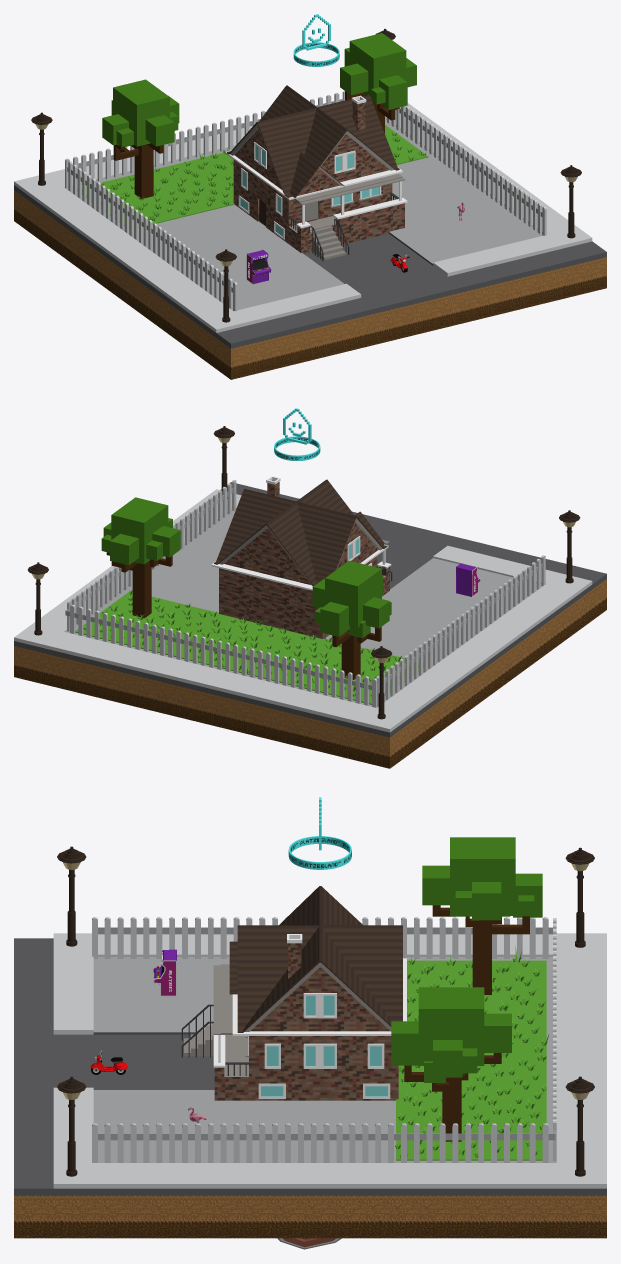
3 renders of one model, top to bottom at view 1: azimuth 30°, elevation 25°; view 2: azimuth 150°, elevation 25°; view 3: azimuth 270°, elevation 25°, orthographic. The views are drawn at different scales.
Parts seen in each view (by area): view 1: Cube.004, Cube.117, TYPE_PREMIUM, OBJRANDOM_ARCADE; view 2: Cube.004, Cube.117, TYPE_PREMIUM, OBJRANDOM_ARCADE; view 3: Cube.004, Cube.117, TYPE_PREMIUM, OBJRANDOM_ARCADE.
Part boxes in pixels (box(x1,y1,x2,y2)): Cube.004: box(14, 28, 606, 379); Cube.117: box(225, 85, 407, 261); TYPE_PREMIUM: box(293, 14, 339, 66); OBJRANDOM_ARCADE: box(246, 249, 271, 284); Cube.004: box(14, 426, 606, 768); Cube.117: box(211, 476, 392, 638); TYPE_PREMIUM: box(274, 408, 320, 460); OBJRANDOM_ARCADE: box(456, 563, 480, 596); Cube.004: box(14, 837, 606, 1238); Cube.117: box(181, 886, 406, 1100); TYPE_PREMIUM: box(288, 797, 351, 869); OBJRANDOM_ARCADE: box(153, 949, 176, 996).
Size of the model in its own units: 4000 by 3183 by 4000.
46 materials, 5 textured.
